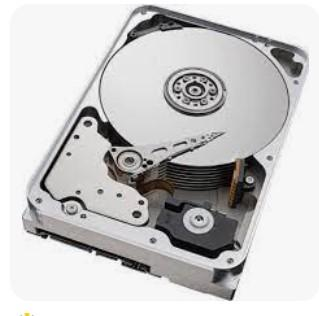internal HDD: (22, 7, 307, 301)
